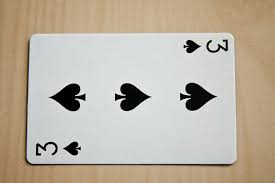three of spades: (25, 32, 238, 163)
